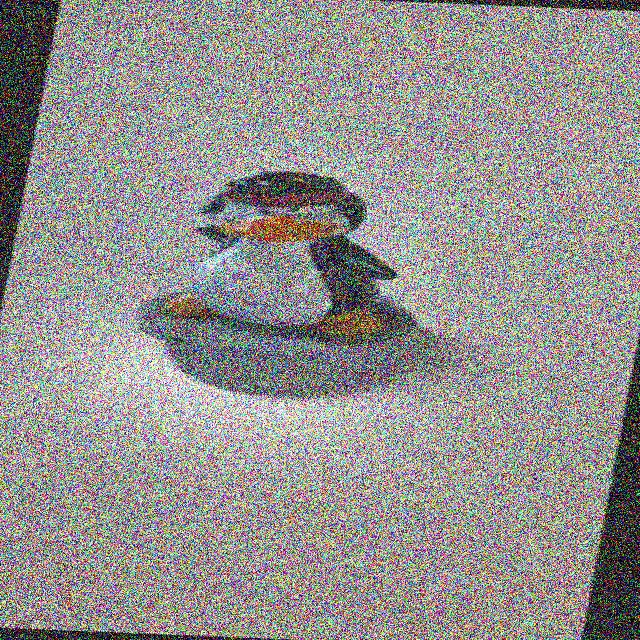Penguin: (112, 161, 483, 367)
